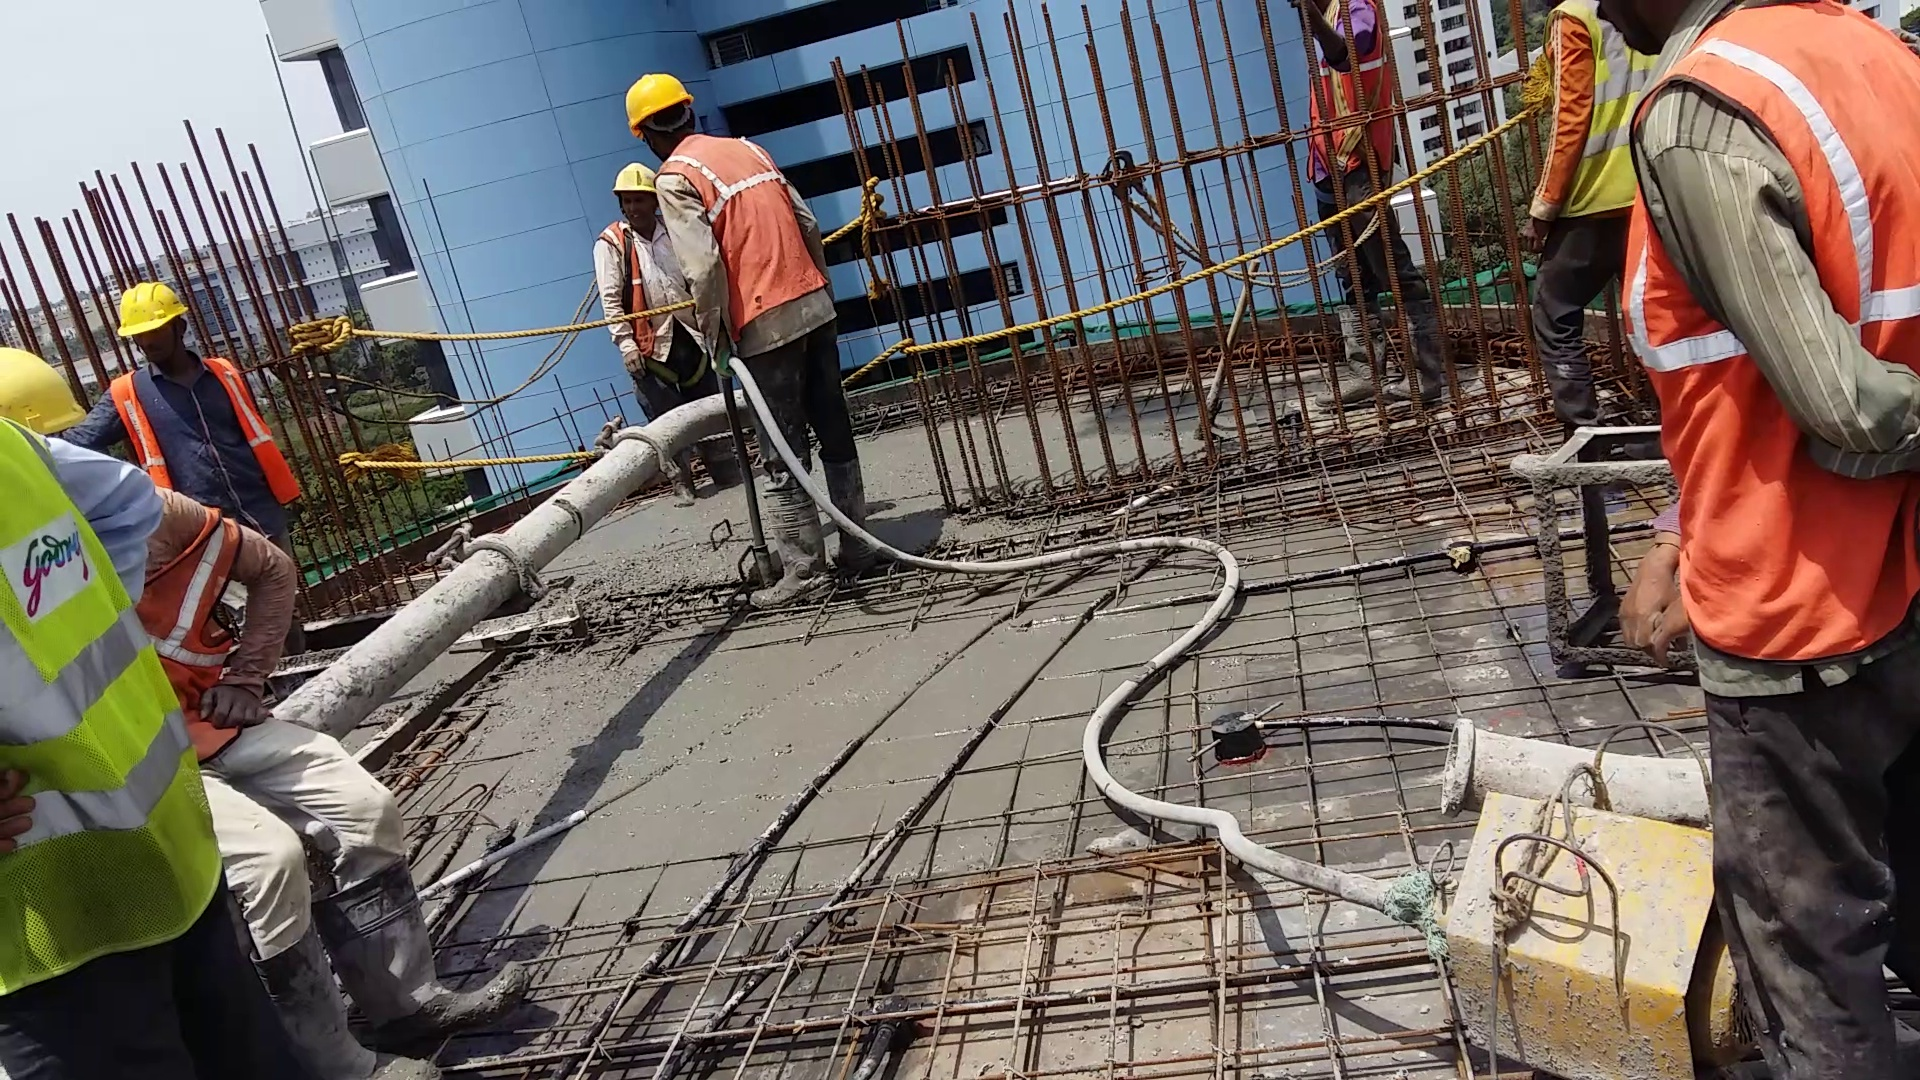NoHardhat: (1611, 11, 1920, 665)
SAFE: (628, 58, 837, 376), (86, 266, 302, 551)
